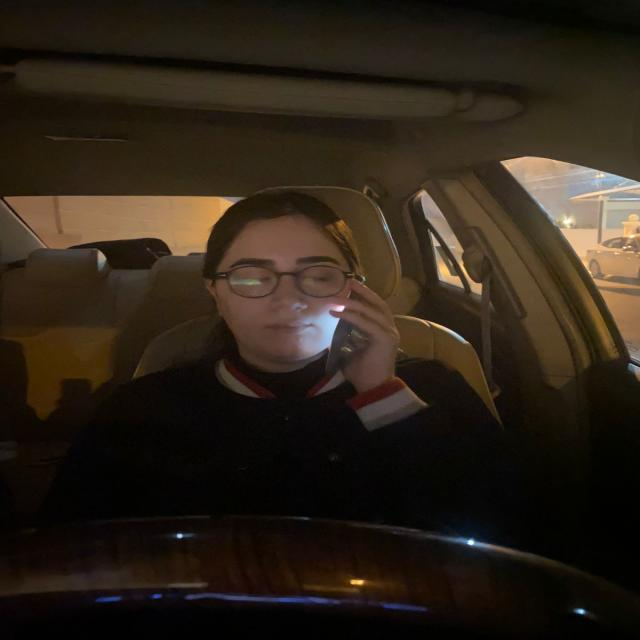mobile: (327, 278, 366, 377)
person: (224, 196, 350, 365)
